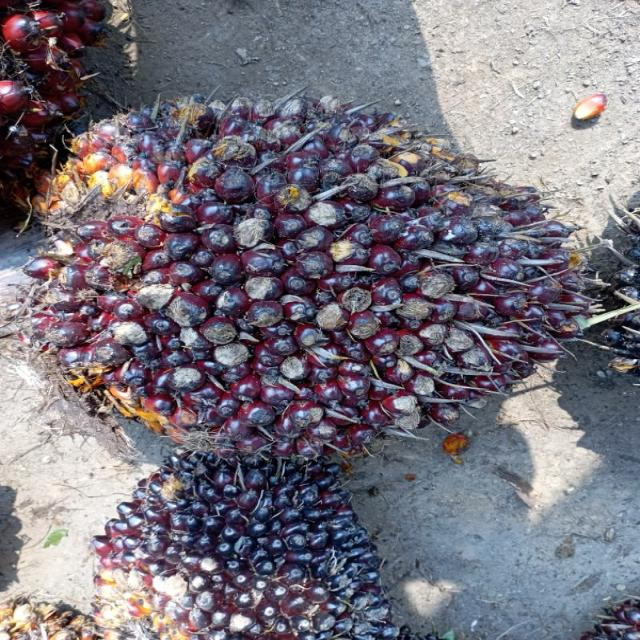fraksi 00: (90, 445, 413, 640)
fraksi 1: (0, 85, 587, 452)
